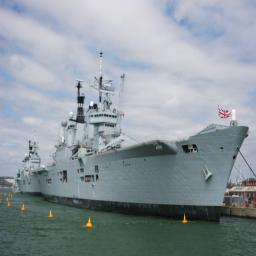Portanaves: (36, 47, 251, 227)
